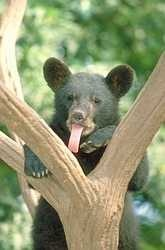bear: (19, 55, 147, 183)
